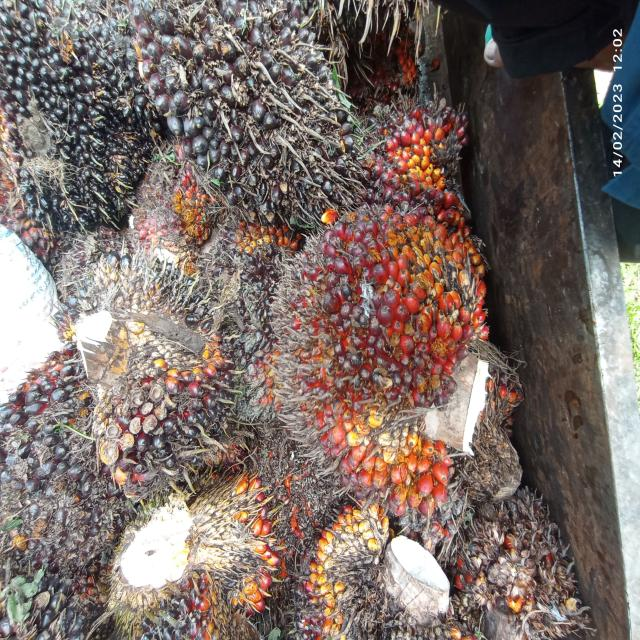fraksi 00: (133, 0, 394, 224), (59, 210, 239, 502), (0, 2, 174, 258), (4, 328, 128, 609), (204, 198, 290, 372)
fraksi 3: (262, 168, 516, 538), (362, 48, 468, 218)
